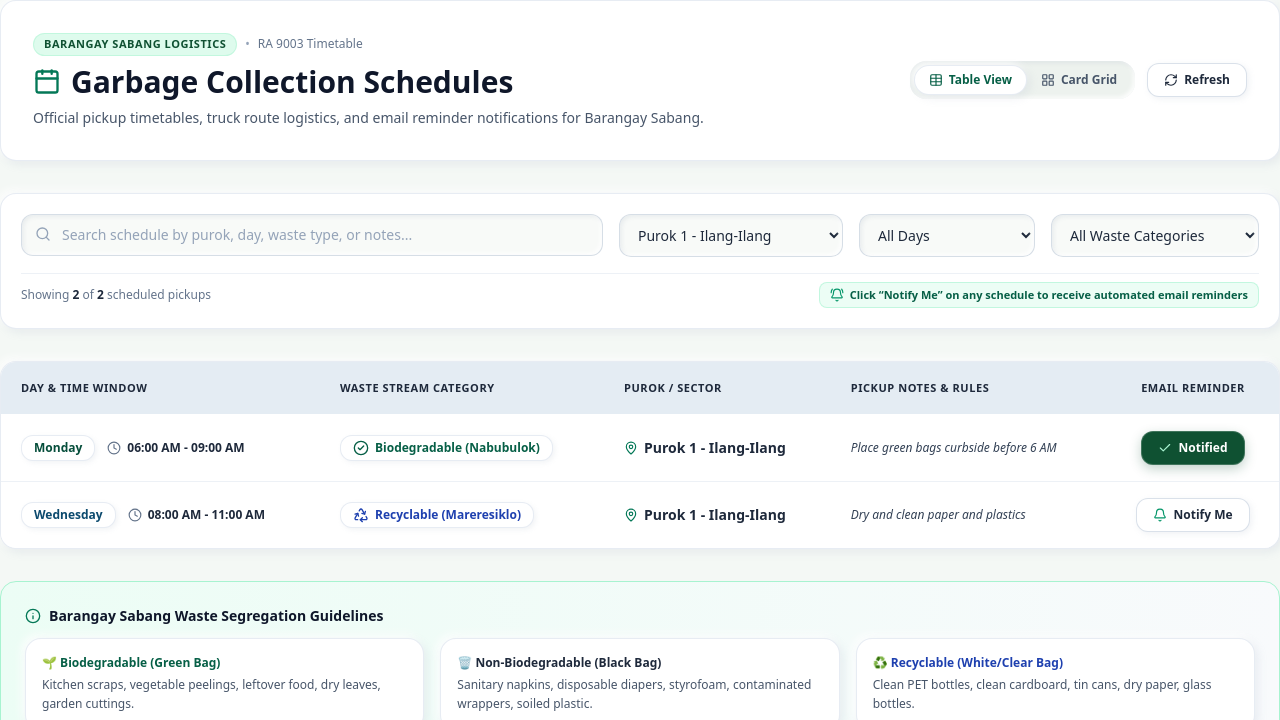
it: ResidentSchedulesPage Component Table View & Email Notifications › can toggle between Table View and Card Grid view
Check: the table is shown, box top-left (1, 362), bottom-right (1279, 548)
// Switch to Card Grid view
Click the button "Card Grid". click: (1079, 80)
box: top-left (1027, 66), bottom-right (1131, 94)
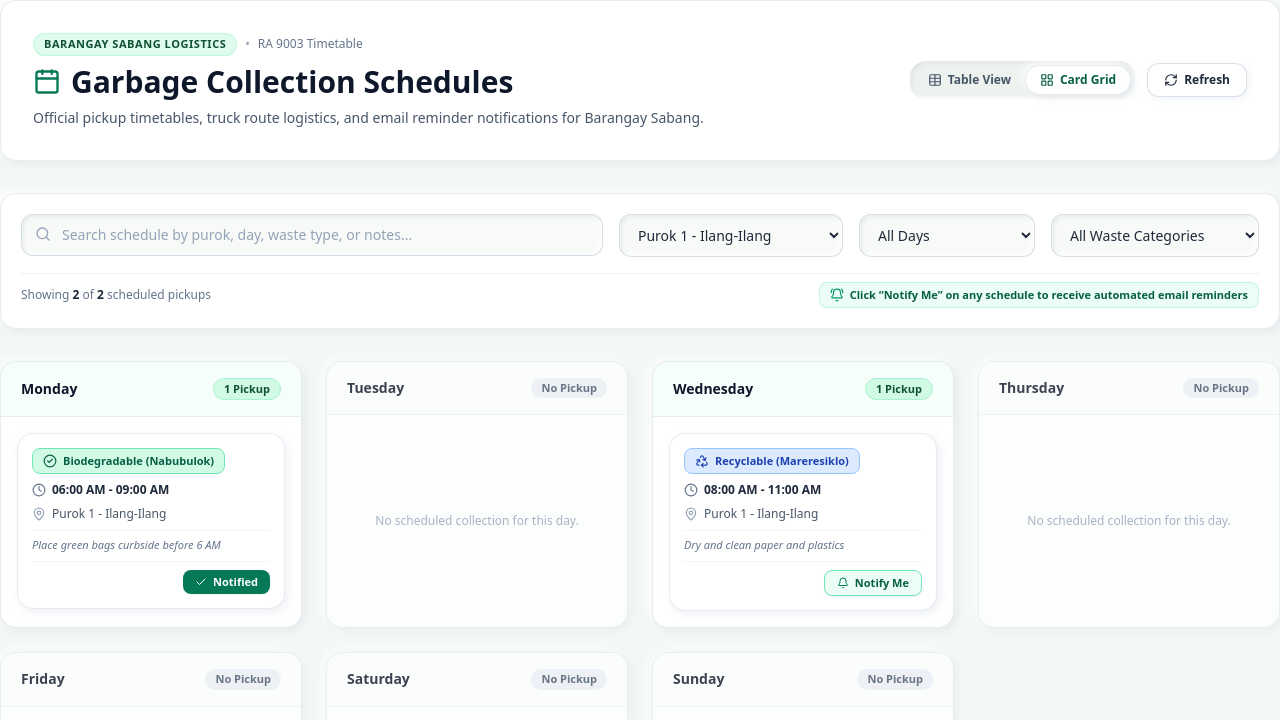
Check: the table is gone
// Switch back to Table View
Click the button "Table View". click: (969, 80)
box: top-left (914, 66), bottom-right (1025, 94)
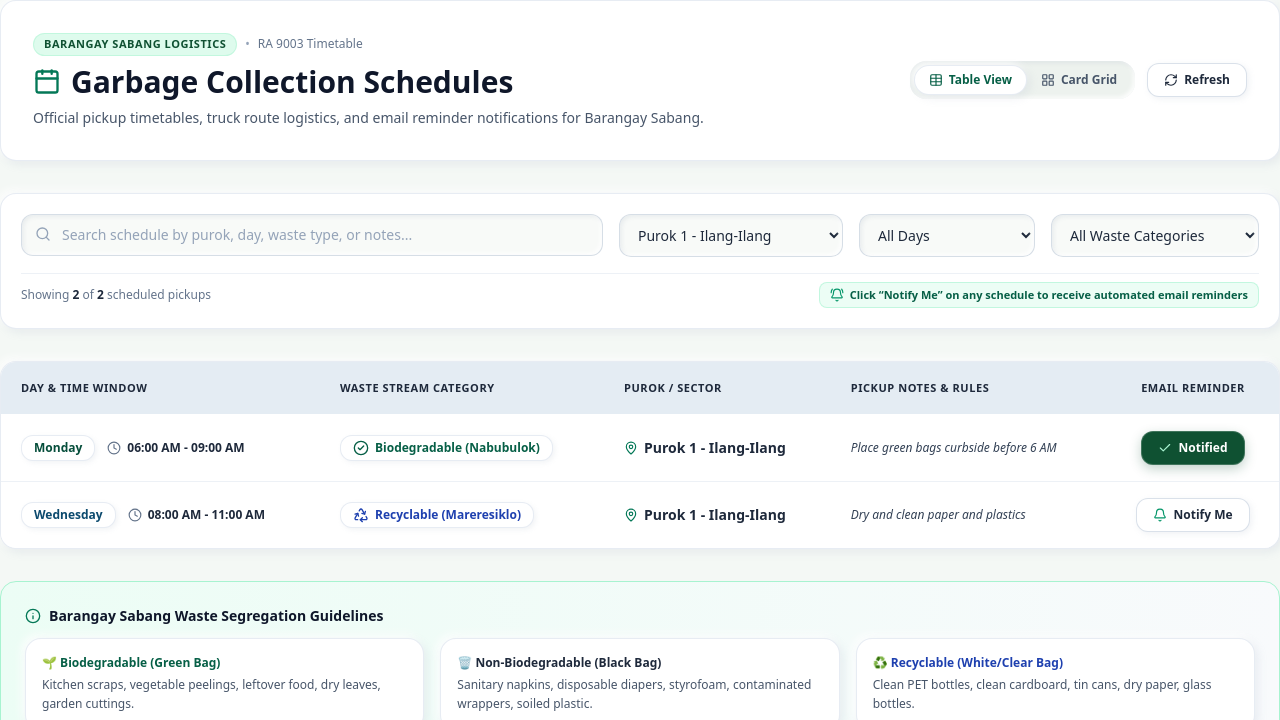
Check: the table is shown, box top-left (1, 362), bottom-right (1279, 548)
